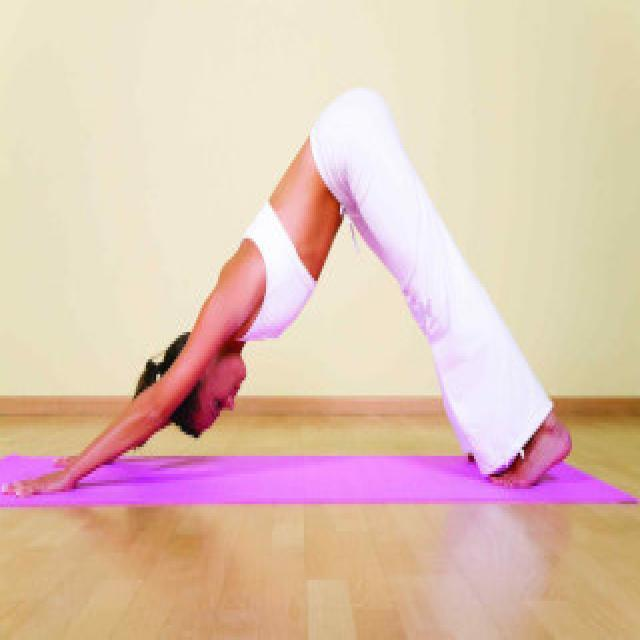yoga-pose downward: (36, 79, 578, 503)
